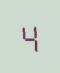four: (19, 20, 39, 52)
